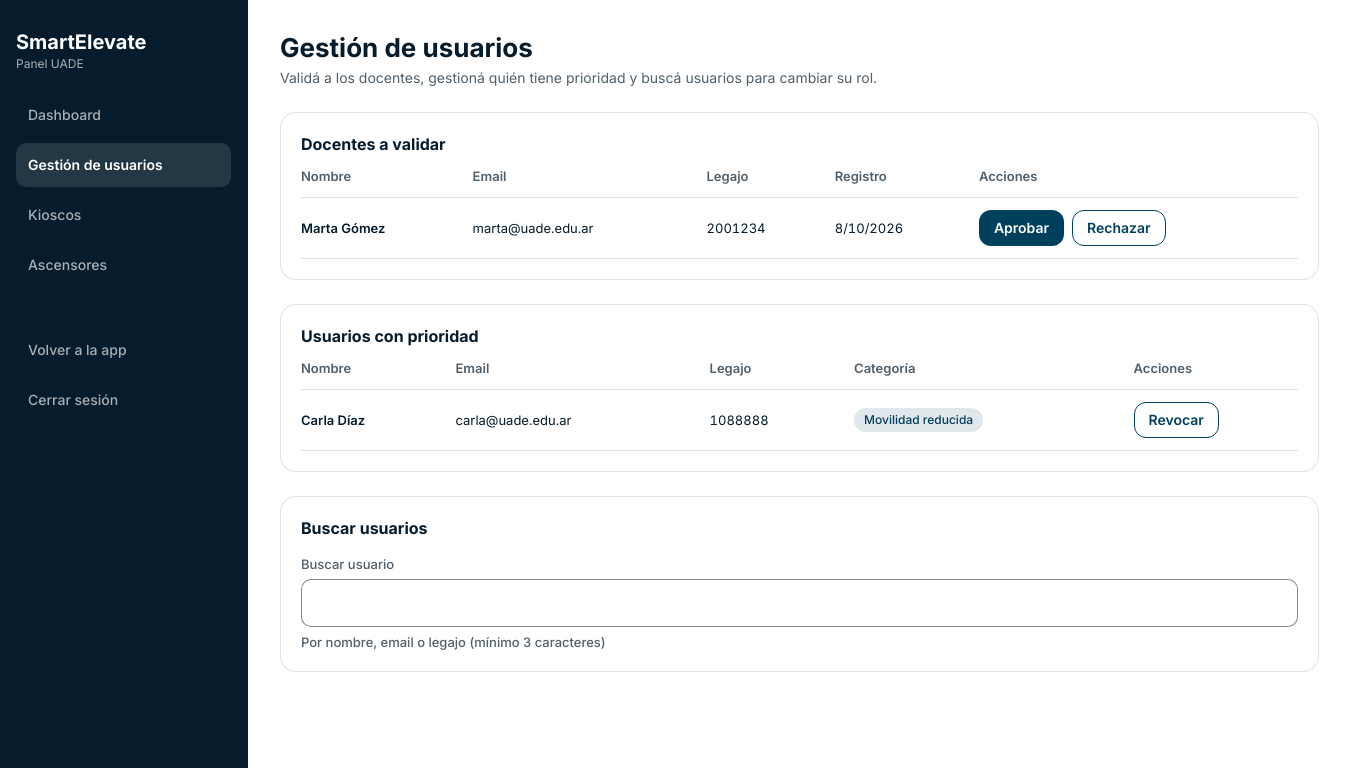
Scenario: AdminPriorityPage › confirmar el rechazo actualiza la cola
Step 1. Click the button with aria-label "Rechazar a Marta Gómez" → (1119, 228), box [1072,210,1166,246]
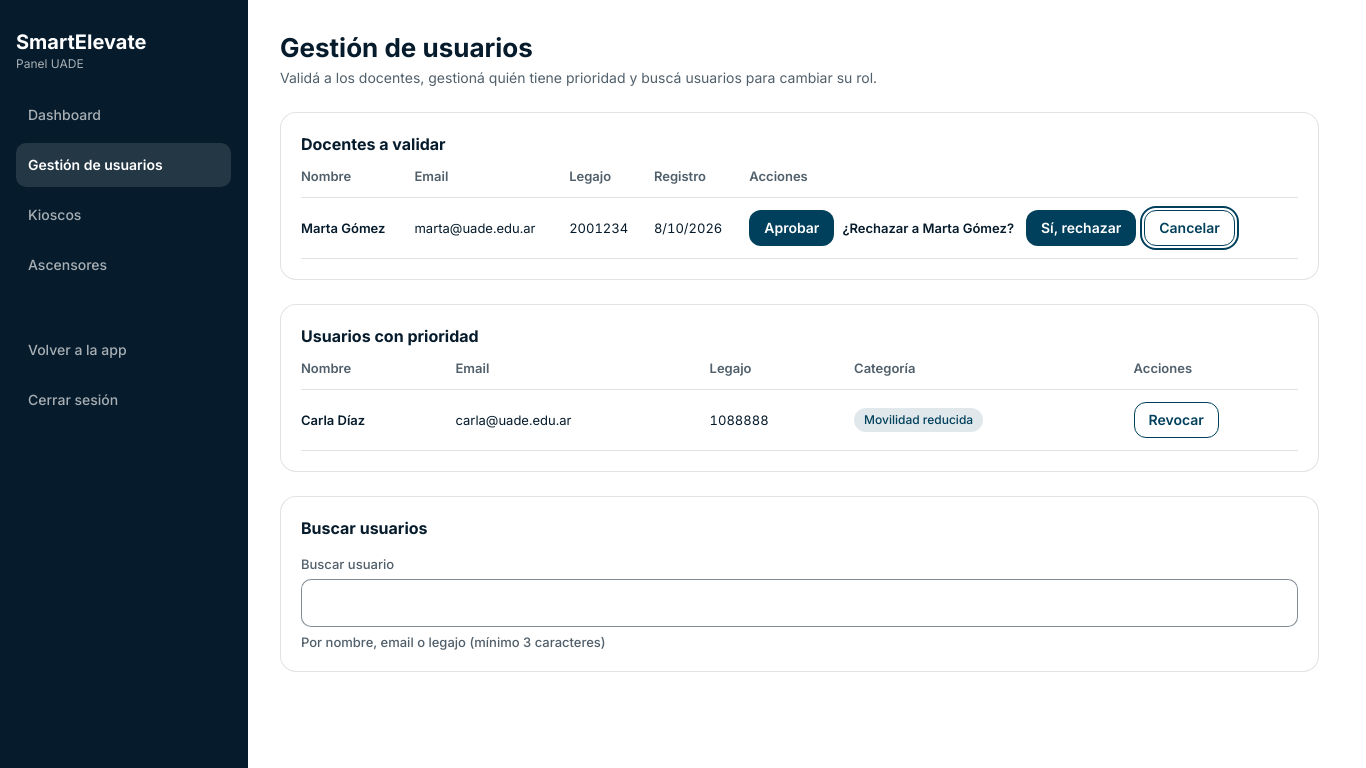
Step 2. Click the button "Sí, rechazar" → (1081, 228), box [1026,210,1136,246]
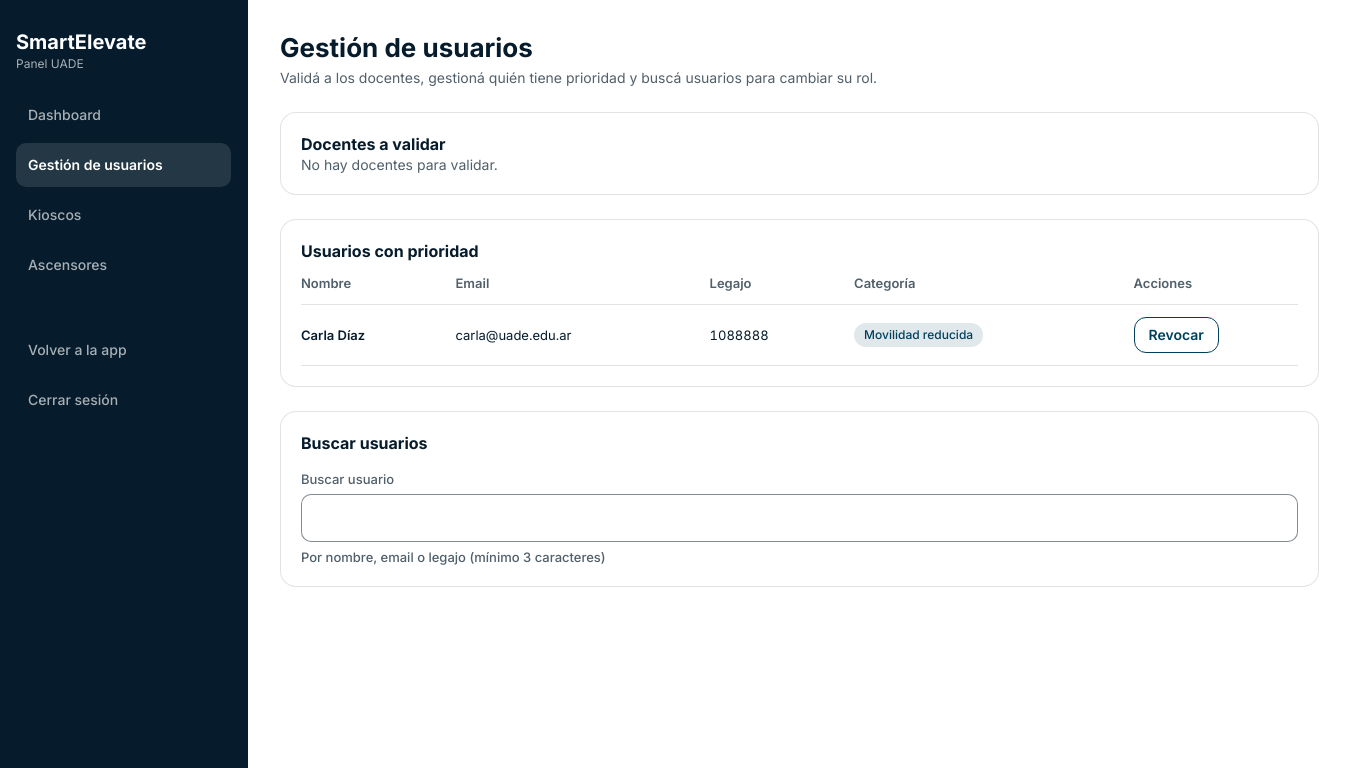
Expected: the text "No hay docentes para validar." is shown, [301,156,498,173]
